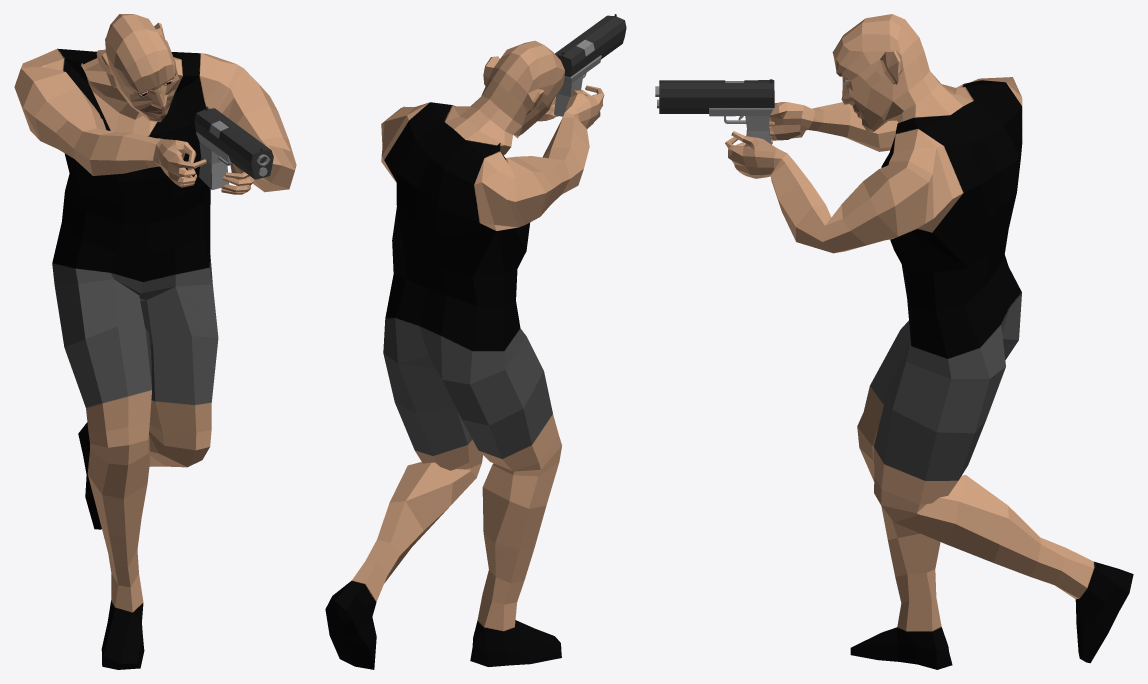
The model's file is PlayerWalk(21).obj.
3 renders of one model, left to right at view 1: azimuth 30°, elevation 25°; view 2: azimuth 150°, elevation 25°; view 3: azimuth 270°, elevation 25°, orthographic. The views are drawn at different scales.
Parts seen in each view (by area): view 1: Plane002, Box003; view 2: Plane002, Box003; view 3: Plane002, Box003.
Part boxes in pixels (x1,y1,x2,y2): Plane002: (14, 14, 296, 669); Box003: (194, 106, 273, 189); Plane002: (325, 40, 604, 669); Box003: (554, 14, 626, 116); Plane002: (725, 14, 1133, 669); Box003: (655, 79, 774, 146).
Size of the model in its own units: 572 by 1685 by 1133.
